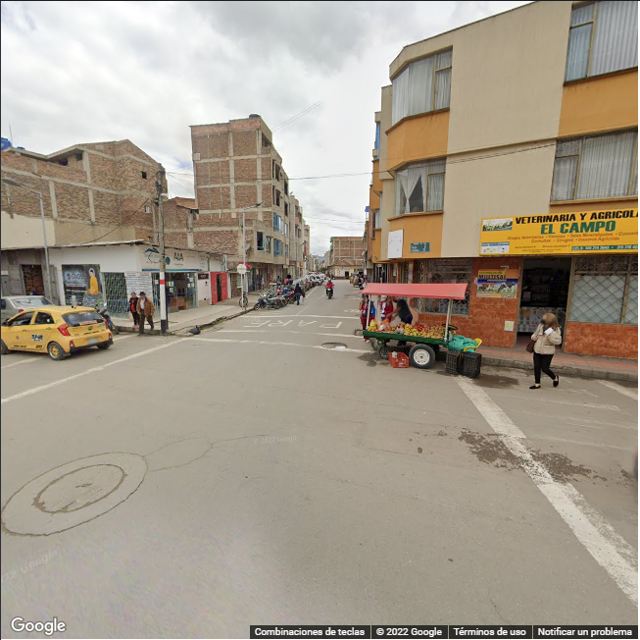D00: (153, 442, 218, 475), (484, 583, 522, 628), (143, 433, 183, 456), (214, 432, 272, 443)
D10: (359, 443, 423, 458)
